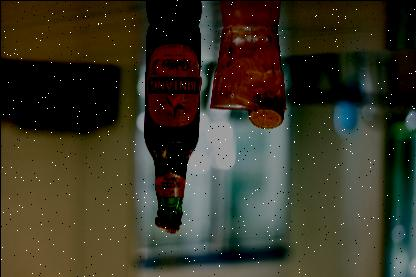Others: (143, 22, 199, 230), (209, 24, 285, 110)
